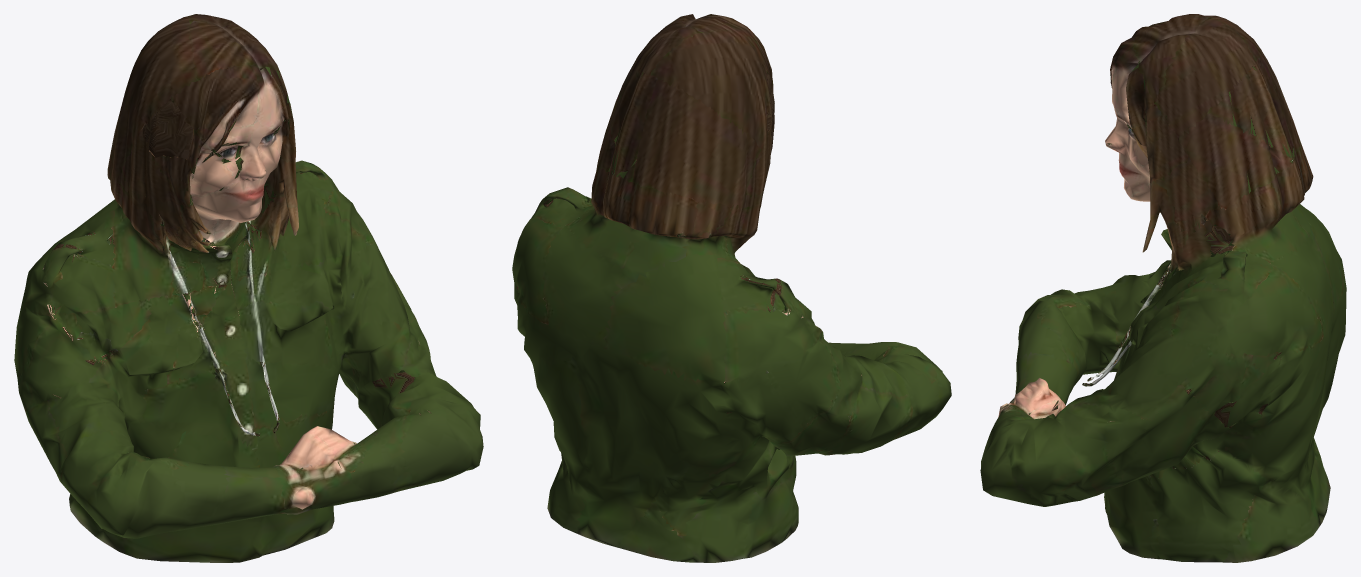
File: katri-n-jakobsdo-ttir-compressed.glb
3 renders of one model, left to right at view 1: azimuth 30°, elevation 25°; view 2: azimuth 150°, elevation 25°; view 3: azimuth 270°, elevation 25°, orthographic. The views are drawn at different scales.
Size of the model in its own units: 1.46 by 1.9 by 1.29.
1 material, 1 textured.
